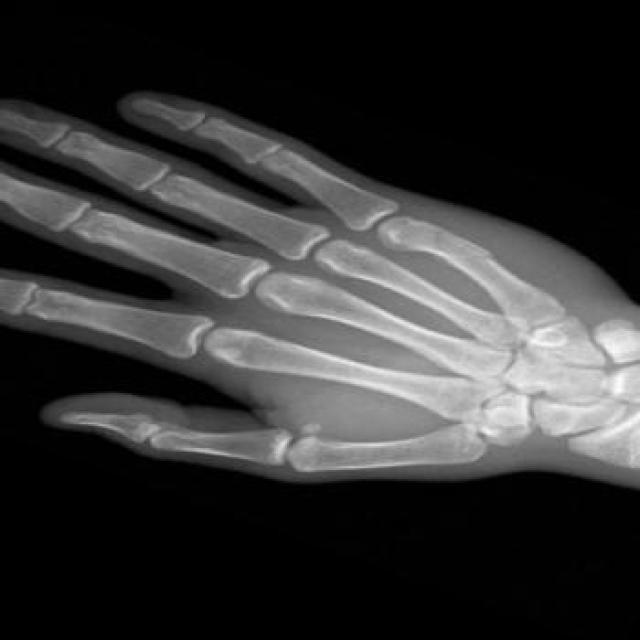Fracture: (450, 244, 505, 273)
